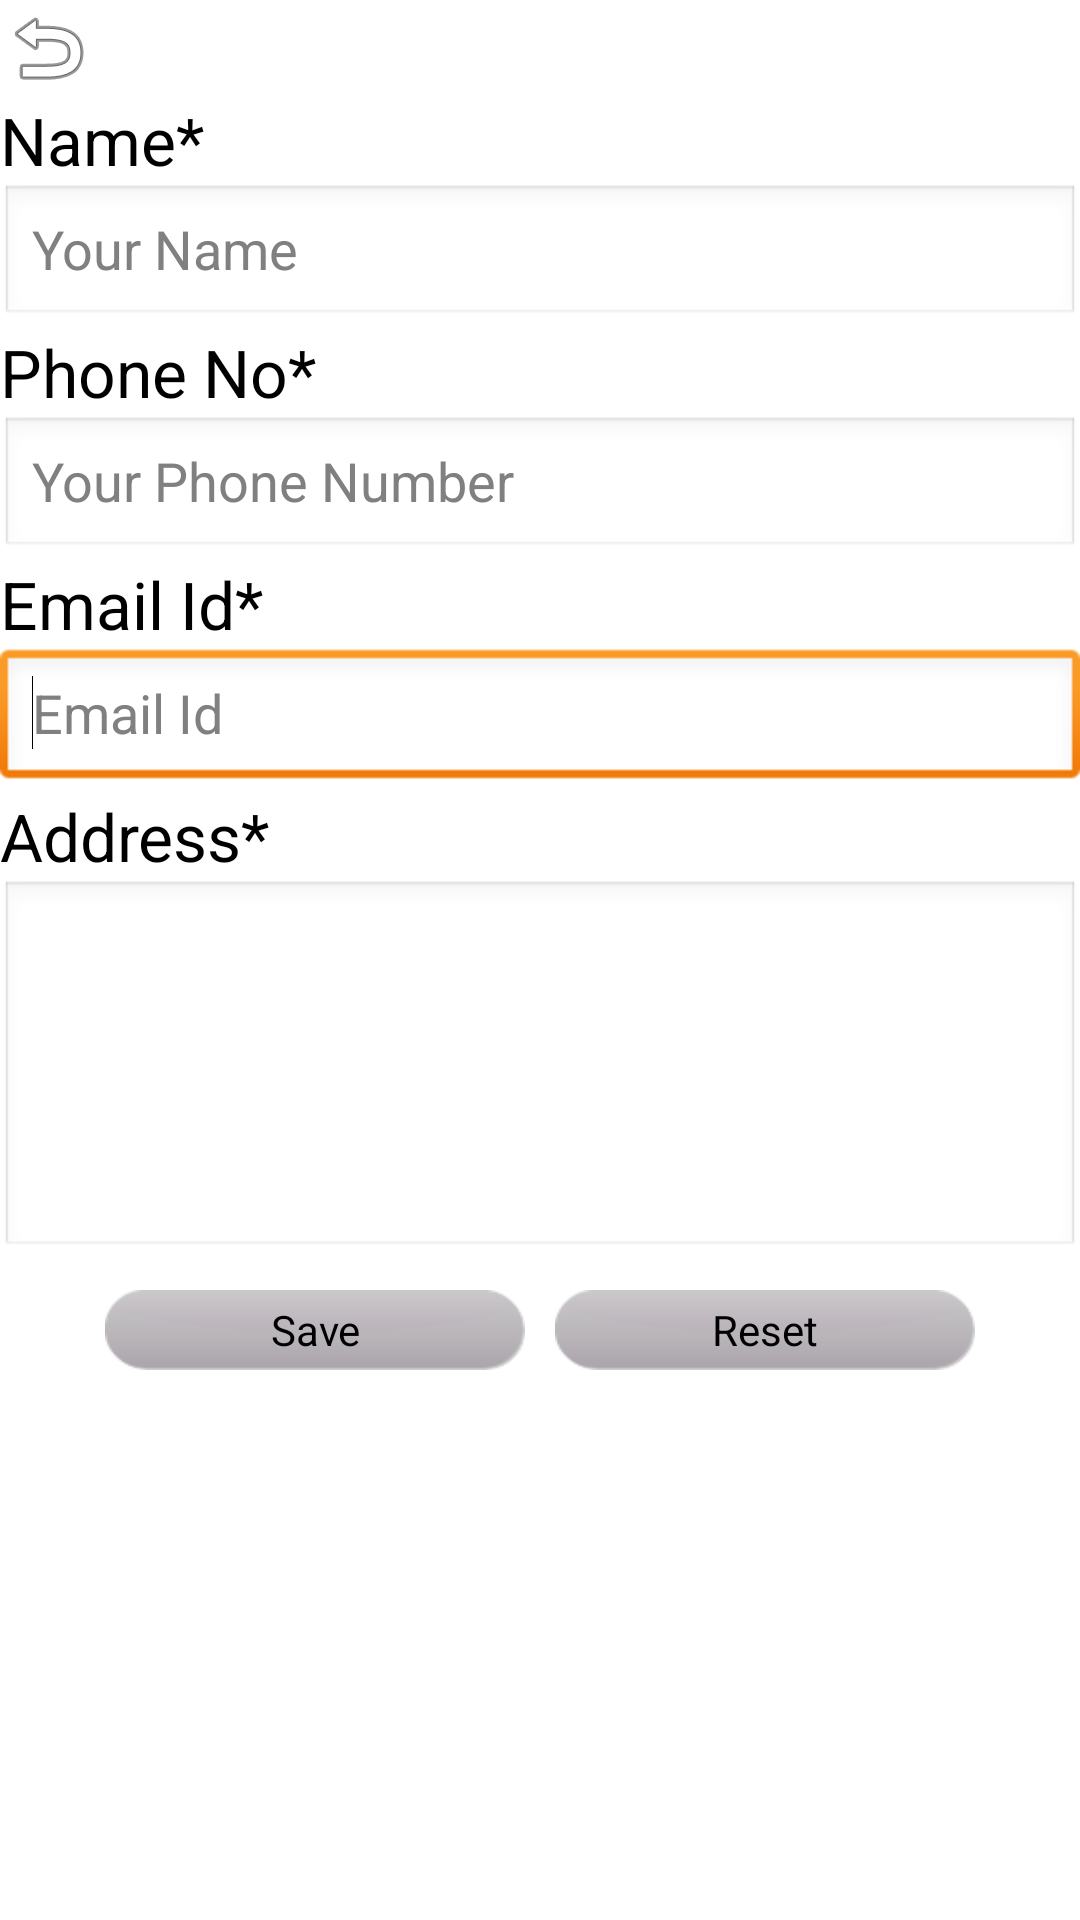

Icon click points for this 1080×1920 phone screenshot, format (x,y):
revert: (49,48)
